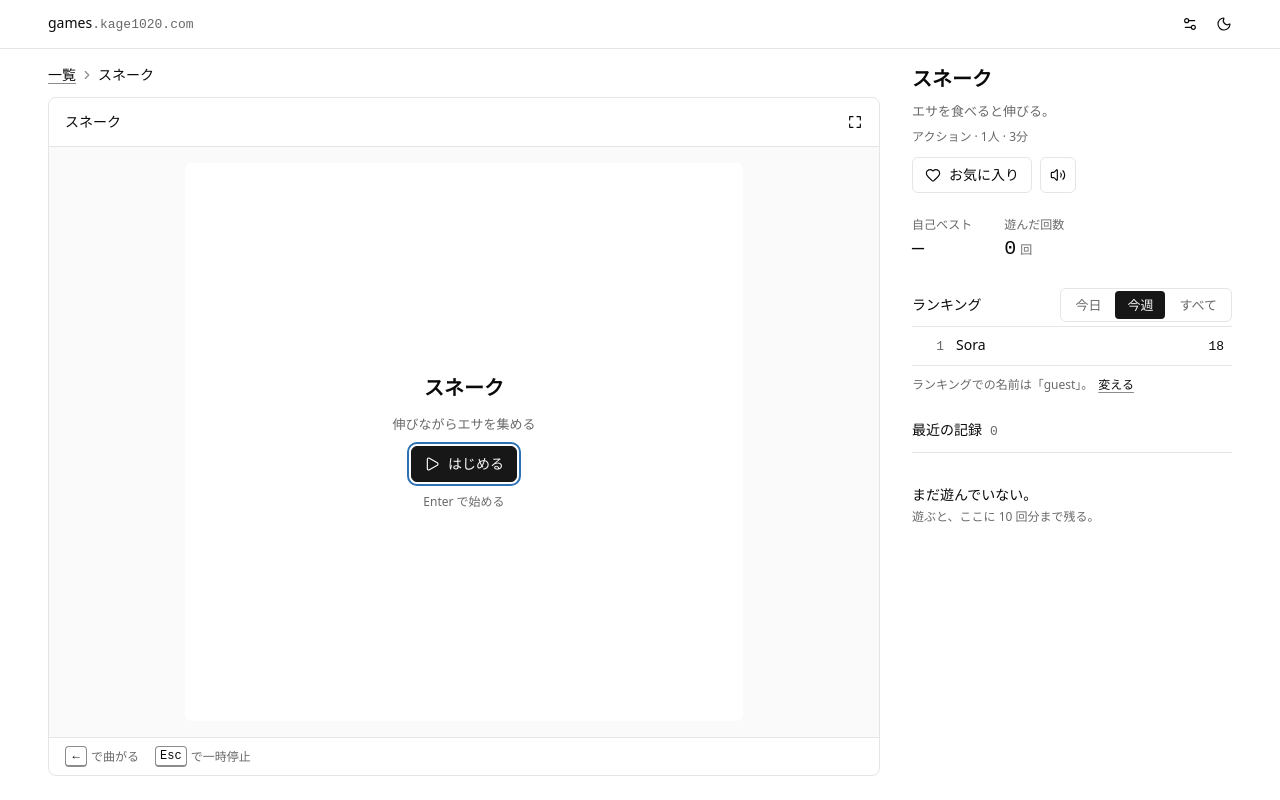
Scenario: play robustness › AC-U13 keeps the header and offers a reload when a screen fails to load
The width and height of the screenshot is (1280, 800).
Click the button "はじめる" at coordinates (464, 464), box left=411, top=446, right=517, bottom=482
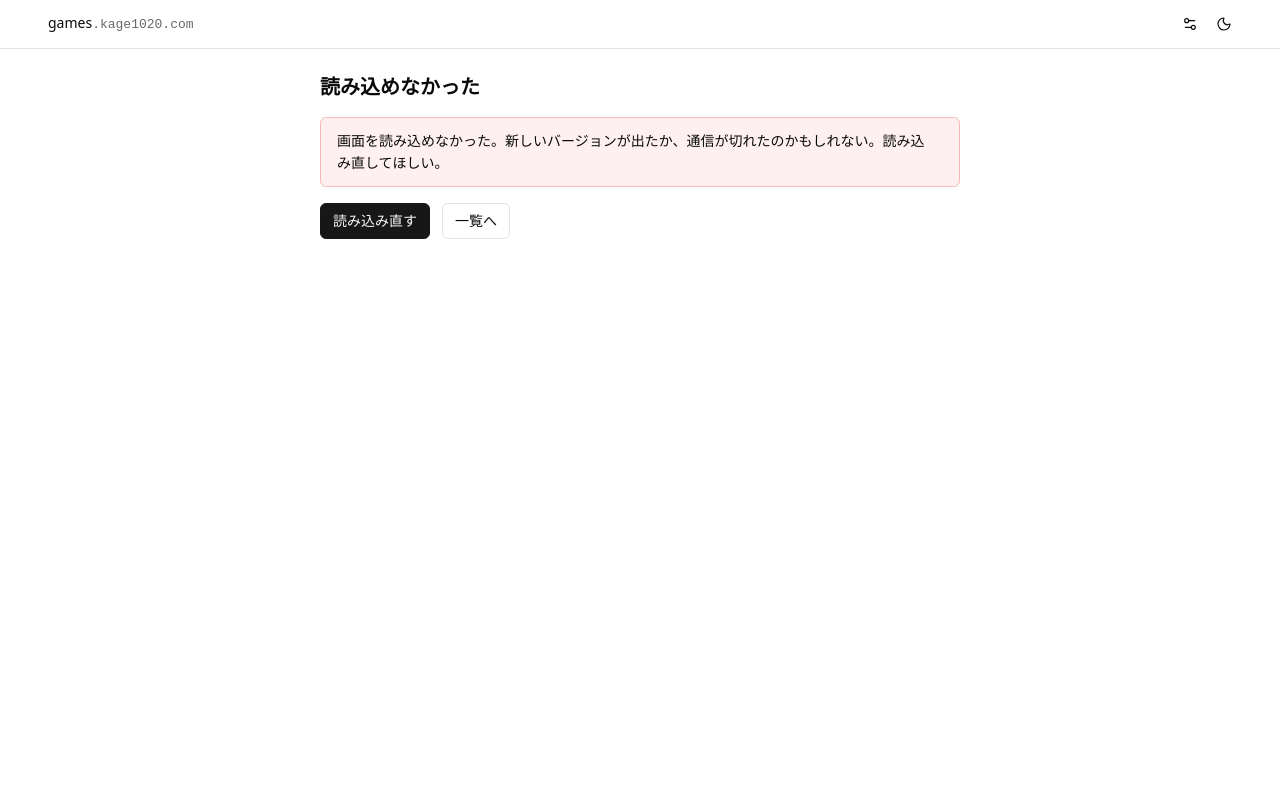
Expected: the link named "記録と設定" is shown, left=1182, top=16, right=1198, bottom=32
Expected: the text "画面を読み込めなかった。新しいバージョンが出たか、通信が切れたのかもしれない。読み込み直してほしい。" is shown, left=337, top=130, right=927, bottom=174
Expected: the button "読み込み直す" is shown, left=320, top=203, right=430, bottom=239
